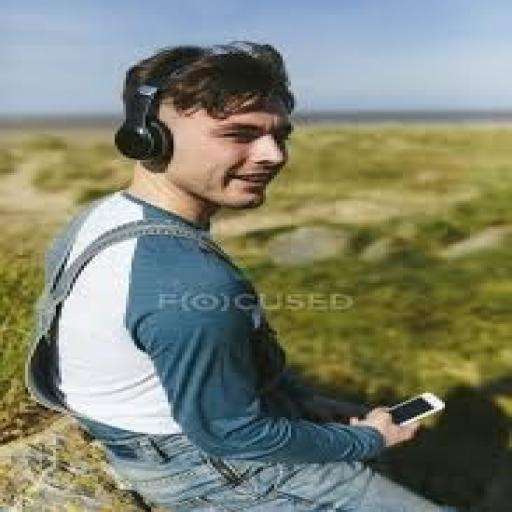listening_to_music: (20, 39, 462, 510)
